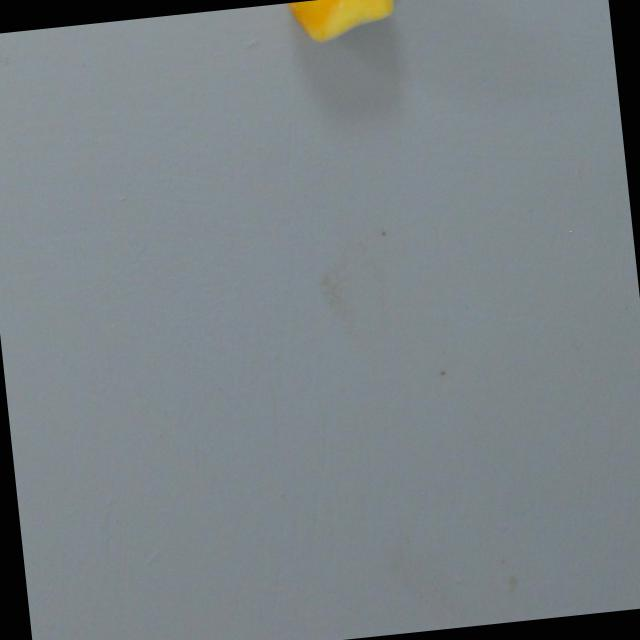no_canjicado: (284, 0, 400, 47)
